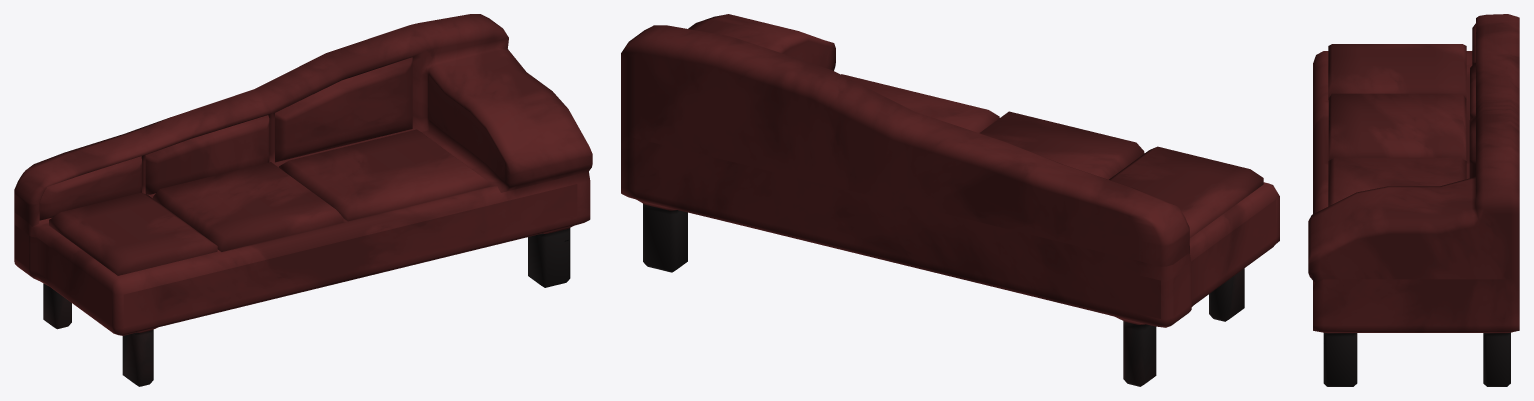
Rendered from sofa.fbx.
3 views of the same model, side by side, from view 1: azimuth 30°, elevation 25°; view 2: azimuth 150°, elevation 25°; view 3: azimuth 270°, elevation 25° (orthographic). The views are drawn at different scales.
Visible parts, largest first — view 1: sofa; view 2: sofa; view 3: sofa.
Boxes of the visible parts, x1=… form: sofa: x1=14, y1=14, x2=592, y2=386; sofa: x1=621, y1=14, x2=1279, y2=386; sofa: x1=1308, y1=14, x2=1519, y2=386.
Bounding box in the file's own units: 2.71 × 1.12 × 1.04.
1 material, 1 textured.
